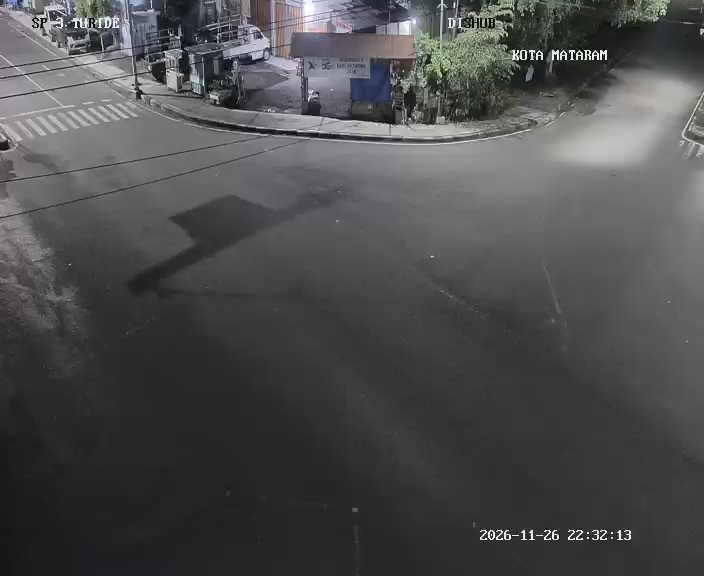Gerobak: (185, 41, 242, 106)
